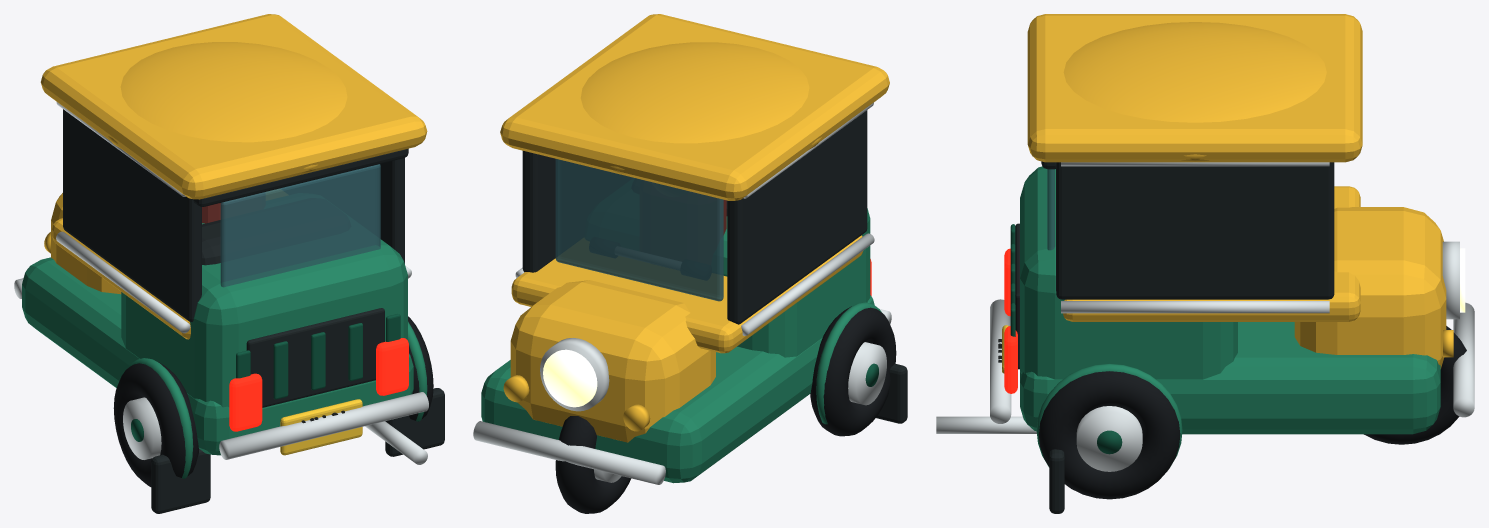
Rendered from mumbai-racing-auto.glb.
3 views of the same model, side by side, from view 1: azimuth 30°, elevation 25°; view 2: azimuth 150°, elevation 25°; view 3: azimuth 270°, elevation 25° (orthographic). The views are drawn at different scales.
Visible parts, largest first — view 1: Canopy roof, Rear engine body, Canopy crown, Left pillar, Rear window, Lower chassis, Rear engine grille, Tyre_0, Rear bumper, Mud flap L, Right pillar, Side lower rail (+16 smaller); view 2: Canopy roof, Front nose, Canopy crown, Front windscreen, Left pillar, Lower chassis, Cabin lower trim, Rear engine body, Tyre_0, Front bumper, Right pillar, Tyre_2 (+8 smaller); view 3: Right pillar, Canopy roof, Lower chassis, Canopy crown, Rear engine body, Front nose, Tyre_1, Cabin lower trim, Side lower rail.001, Rim_1, Front bumper, Tyre_2 (+9 smaller).
Boxes of the visible parts, box(x1,y1,x2,y2) form: Canopy roof: box(40, 14, 427, 199); Rear engine body: box(121, 223, 407, 407); Canopy crown: box(108, 42, 347, 172); Left pillar: box(63, 109, 201, 321); Rear window: box(220, 164, 380, 287); Lower chassis: box(22, 257, 413, 455); Rear engine grille: box(246, 308, 384, 407); Tyre_0: box(113, 362, 198, 486); Rear bumper: box(219, 392, 428, 459); Mud flap L: box(151, 448, 210, 513); Right pillar: box(380, 158, 404, 263); Side lower rail: box(56, 231, 190, 333); Canopy roof: box(500, 14, 889, 200); Front nose: box(510, 280, 715, 442); Canopy crown: box(580, 42, 821, 174); Front windscreen: box(555, 159, 723, 301); Left pillar: box(727, 110, 867, 324); Lower chassis: box(481, 295, 874, 483); Cabin lower trim: box(511, 235, 862, 353); Rear engine body: box(723, 208, 870, 357); Tyre_0: box(810, 306, 896, 436); Front bumper: box(473, 421, 665, 484); Right pillar: box(522, 151, 555, 272); Tyre_2: box(555, 416, 631, 513); Right pillar: box(1056, 162, 1334, 299); Canopy roof: box(1027, 14, 1362, 162); Lower chassis: box(1020, 322, 1440, 434); Canopy crown: box(1063, 22, 1326, 162); Rear engine body: box(1020, 166, 1237, 379); Front nose: box(1294, 207, 1446, 368); Tyre_1: box(1038, 371, 1180, 499); Cabin lower trim: box(1063, 186, 1360, 321); Side lower rail.001: box(1061, 301, 1329, 313); Rim_1: box(1076, 406, 1142, 471); Front bumper: box(1453, 302, 1474, 417); Tyre_2: box(1364, 326, 1466, 444).
Size of what is drawn, in the model's own units: 1.86 by 2.17 by 2.77.
